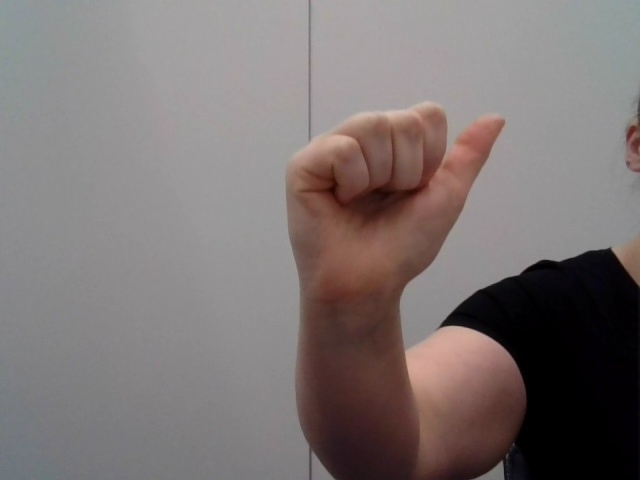left: (267, 77, 517, 324)
